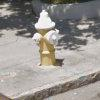Hydrant: (27, 6, 75, 72)
